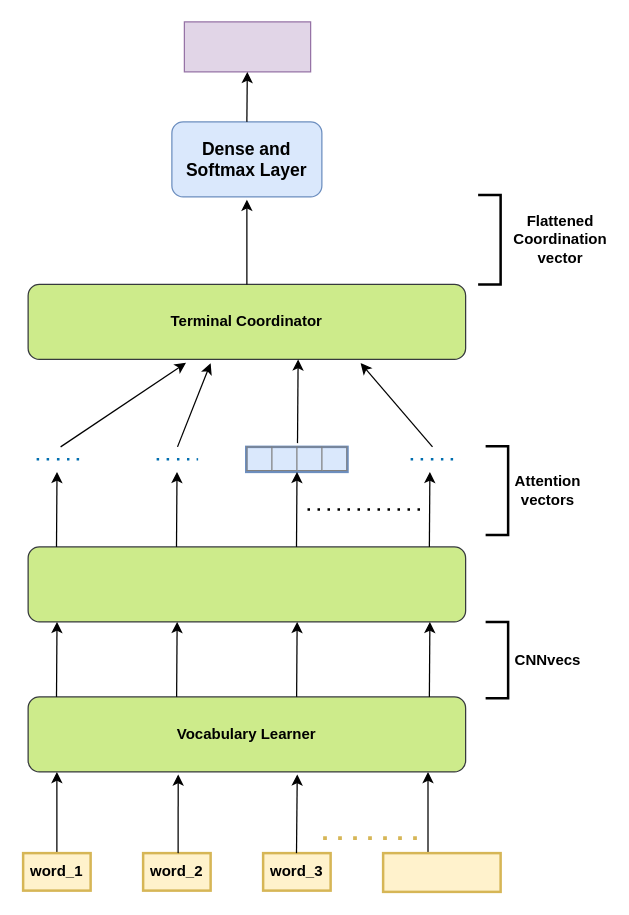
This 629x915 diagram has some shape labels left out. The box of each missing label's shape, as (x1, y1, x2, y2) in pixels:
partial word_n: (381, 851, 501, 892)
Transformer Encoder: (27, 546, 466, 622)
Word(N): (183, 21, 311, 72)
